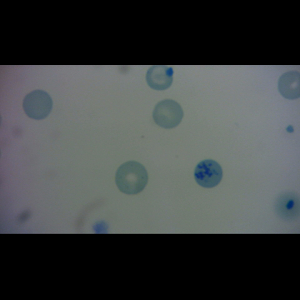aggregate reticulocyte: (193, 159, 224, 189)
erythrocyte: (152, 98, 184, 130), (21, 89, 54, 120), (145, 65, 175, 92)
punctate reticulocyte: (114, 160, 149, 195)
